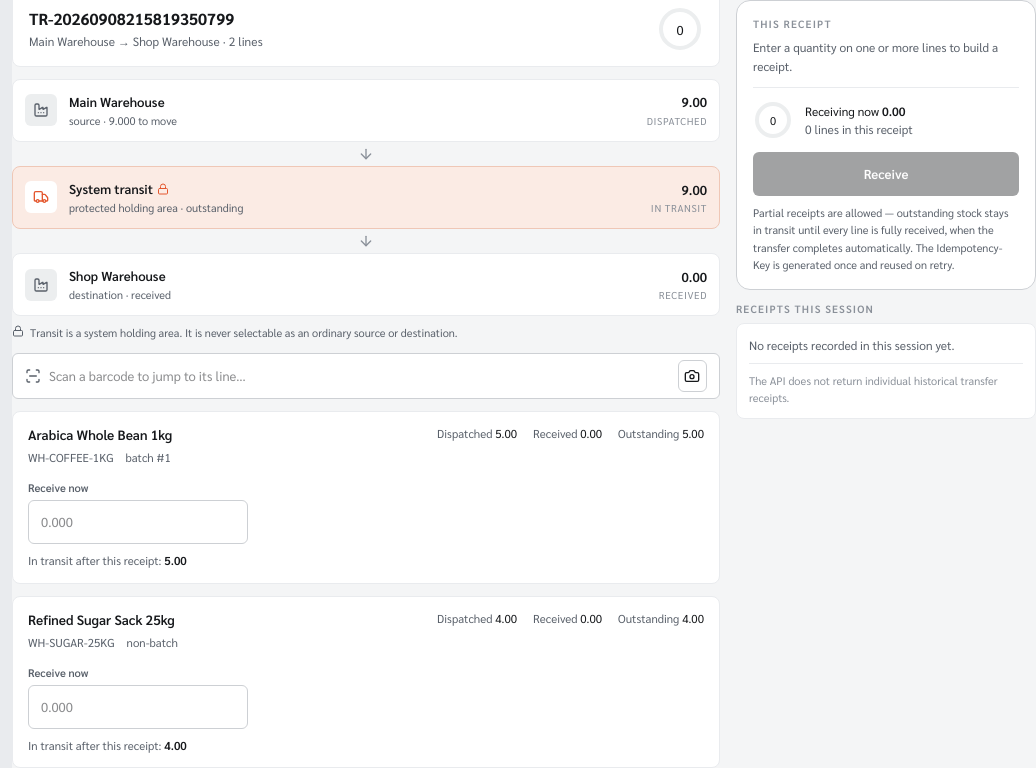
Test: TransferReceivingConsole — receive with a persisted Idempotency-Key › submits { id, idempotencyKey, payload } and lists the receipt on success
(page scrolled)
Type "3" into the field labelled "Receive now" below "WH-SUGAR-25KG" at point(138, 707), box [28,685,248,729]
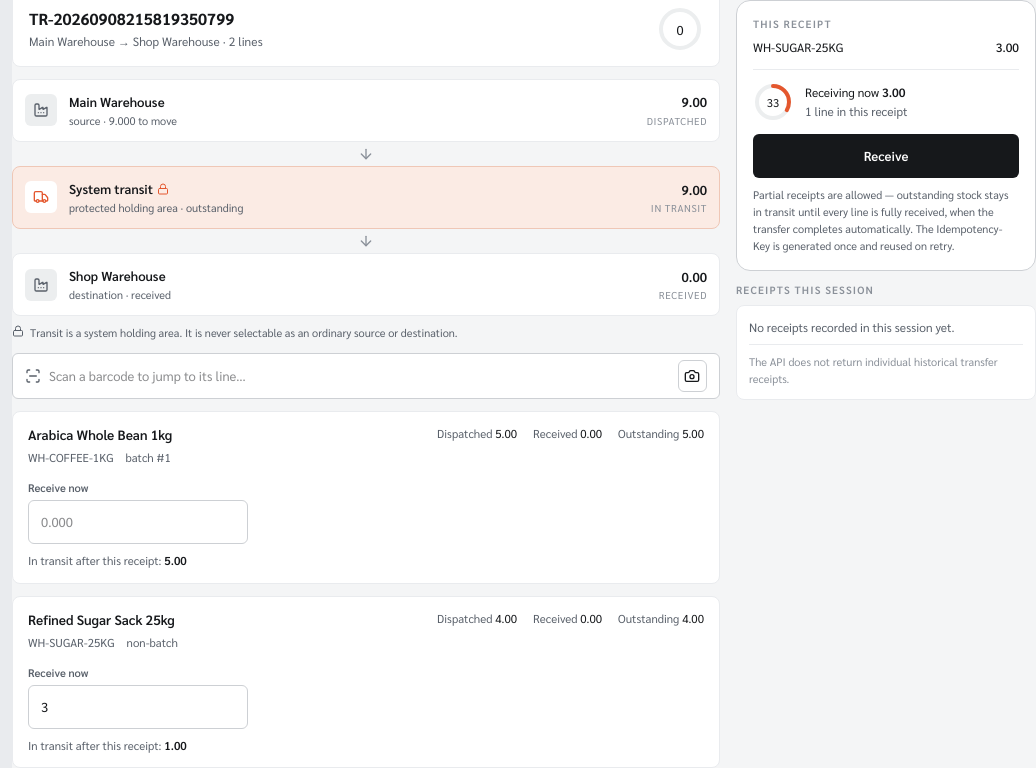
Result: the button "Receive" is enabled
Click the button "Receive" at point(886, 156), box [753,134,1019,178]
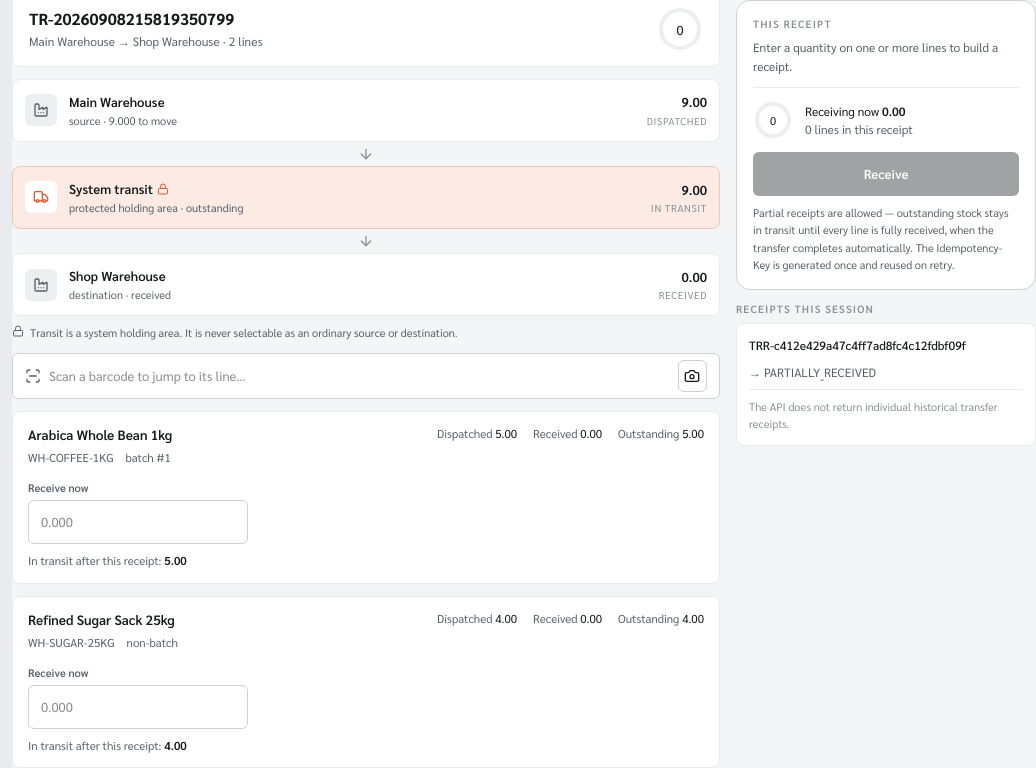
Result: the text "TRR-c412e429a47c4ff7ad8fc4c12fdbf09f" is shown at [749,337,966,355]
Result: the button "Receive" is disabled at [753,153,1019,197]
